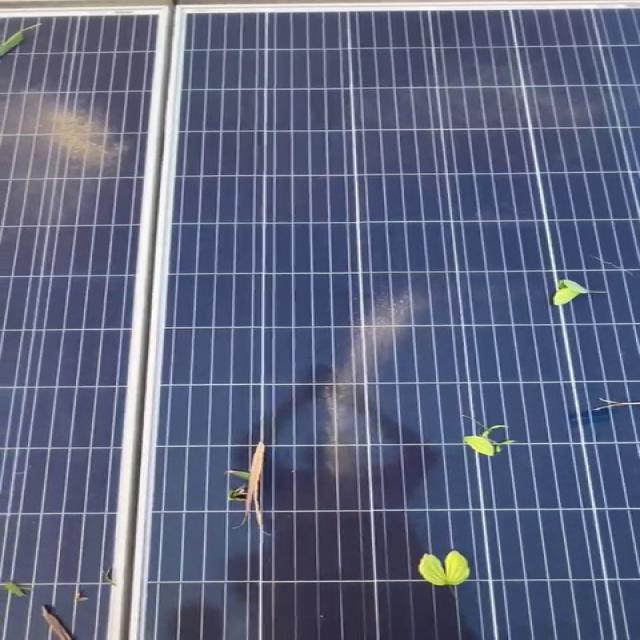dust_partical: (8, 79, 130, 211), (322, 302, 400, 467)
old_leaf: (230, 439, 278, 530), (410, 551, 490, 586), (456, 429, 518, 464), (0, 21, 43, 64), (32, 601, 78, 640), (547, 276, 591, 310), (589, 389, 640, 416)
